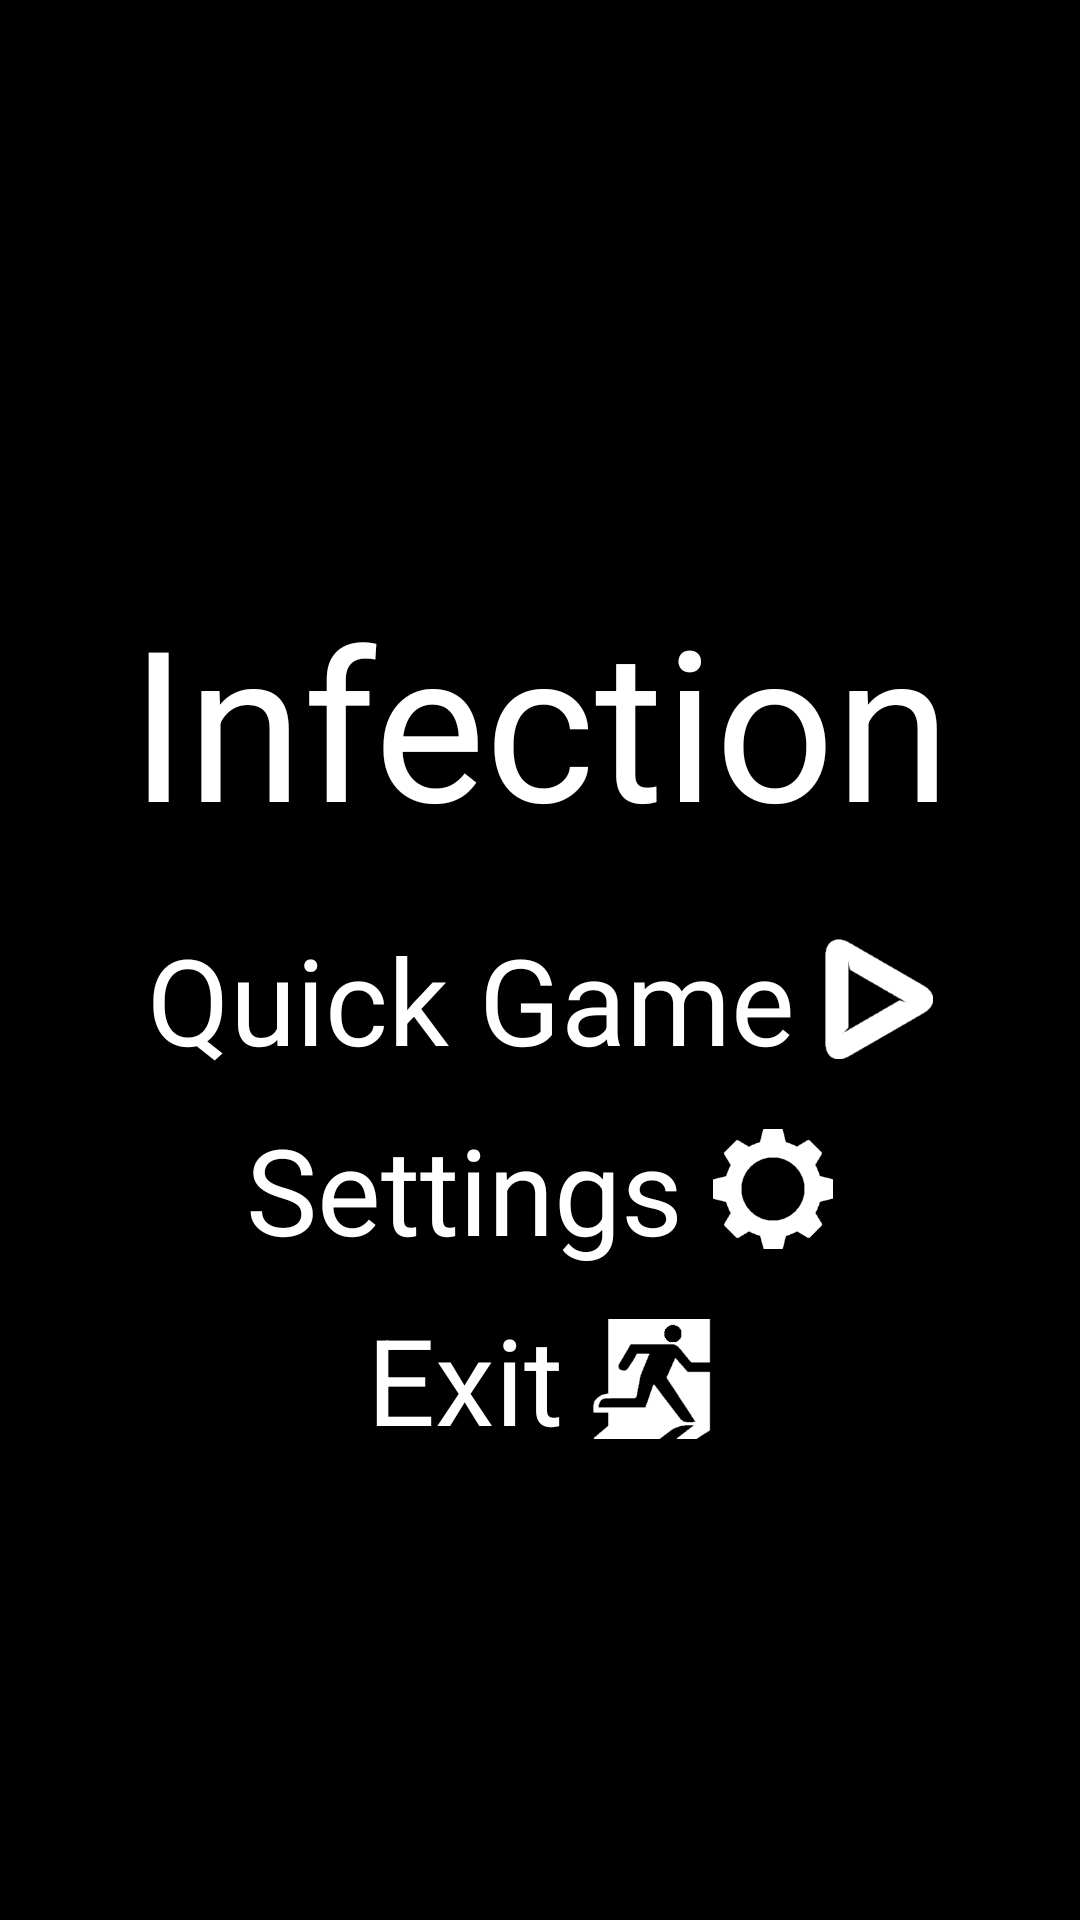

Where icons sit on this 1080x1920 app screen, as detection(x1, y1, x2, y2):
play: detection(825, 939, 933, 1059)
